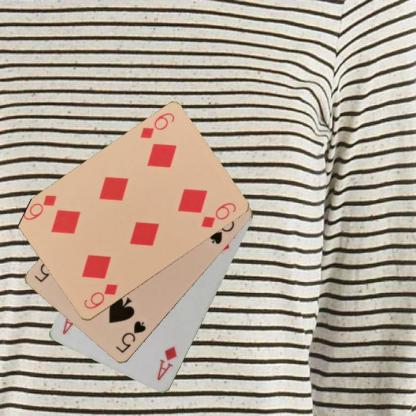5s: (113, 318, 148, 355)
6d: (81, 281, 119, 311), (138, 110, 176, 140)
Ad: (154, 344, 179, 382)
